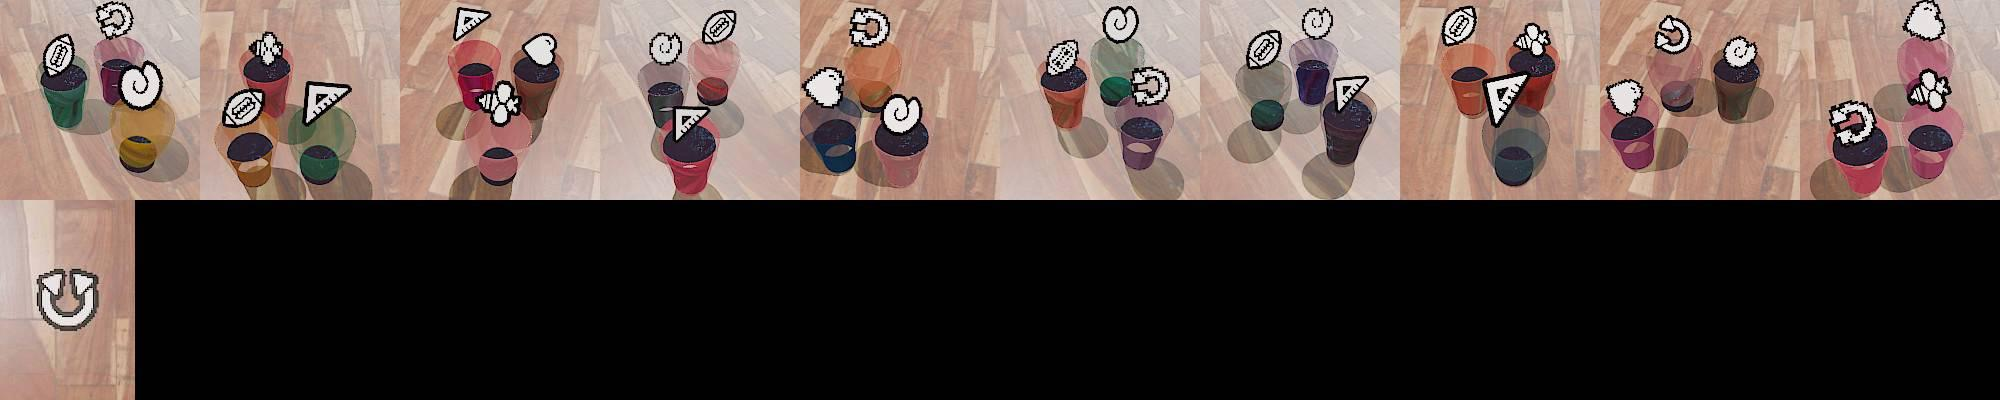icon: (33, 265, 102, 332), (1482, 71, 1532, 129), (300, 79, 356, 129), (1828, 98, 1879, 149), (476, 76, 522, 126), (119, 60, 163, 111), (1907, 66, 1954, 112), (880, 92, 925, 135), (221, 88, 267, 129), (849, 5, 892, 48), (802, 66, 846, 107), (1902, 1, 1946, 41), (1329, 74, 1370, 116), (1129, 66, 1171, 107), (670, 106, 712, 145), (1245, 27, 1282, 71), (1603, 78, 1644, 116), (1653, 14, 1690, 56), (42, 33, 75, 79), (1101, 4, 1139, 43), (1441, 5, 1477, 47), (96, 1, 134, 39), (520, 32, 560, 68), (1513, 23, 1552, 59), (1045, 38, 1080, 78), (700, 9, 737, 46), (453, 6, 491, 42), (253, 31, 286, 69), (648, 31, 682, 66), (1722, 36, 1759, 69), (1301, 6, 1334, 42)
